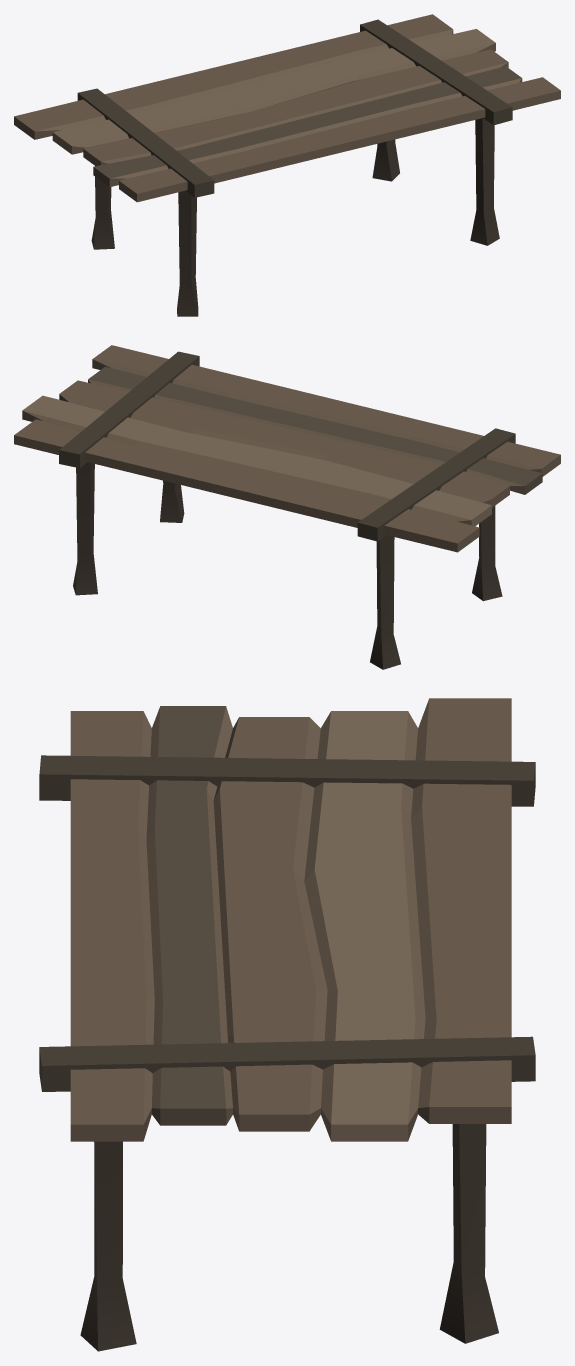
The model's file is SM_Prop_Table_02.glb.
3 renders of one model, top to bottom at view 1: azimuth 30°, elevation 25°; view 2: azimuth 150°, elevation 25°; view 3: azimuth 270°, elevation 25°, orthographic. The views are drawn at different scales.
Parts seen in each view (by area): view 1: SM_Prop_Table_02; view 2: SM_Prop_Table_02; view 3: SM_Prop_Table_02.
Boxes of the visible parts, bbox=[...] form: SM_Prop_Table_02: bbox=[14, 14, 560, 316]; SM_Prop_Table_02: bbox=[14, 345, 560, 669]; SM_Prop_Table_02: bbox=[39, 698, 535, 1351].
Size of the model in its own units: 0.028 by 0.0087 by 0.0138.
